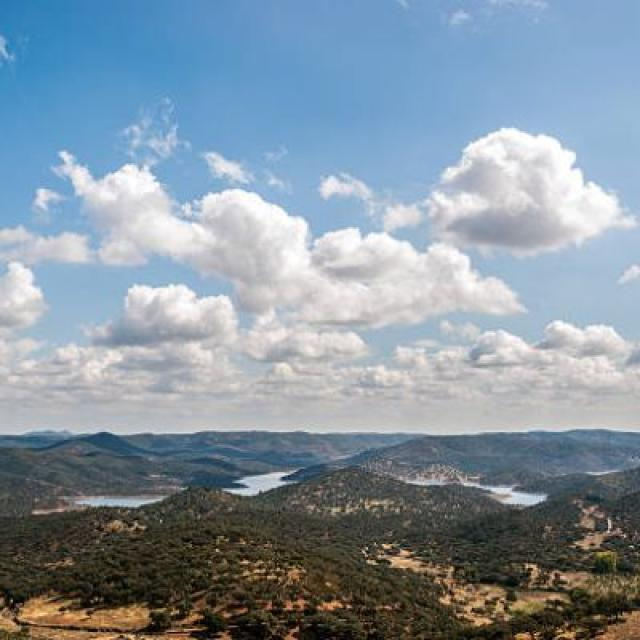Ac: (3, 100, 640, 412)
